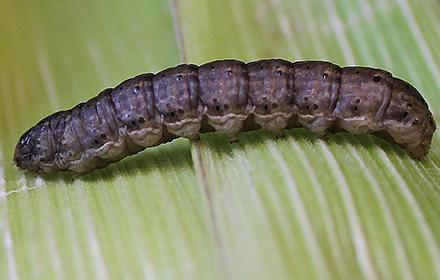caterpillars: (0, 26, 440, 216)
